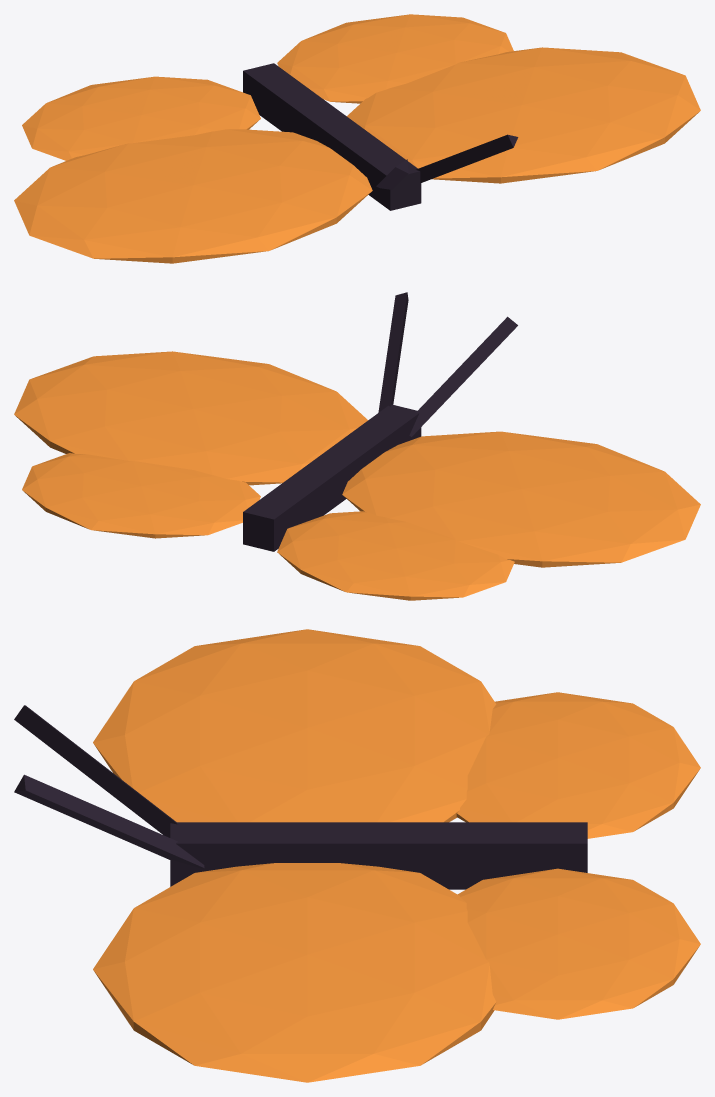
The model's file is butterfly_o.glb.
3 renders of one model, top to bottom at view 1: azimuth 30°, elevation 25°; view 2: azimuth 150°, elevation 25°; view 3: azimuth 270°, elevation 25°, orthographic. The views are drawn at different scales.
Parts seen in each view (by area): view 1: butterfly_o.wingR, butterfly_o.wingL, butterfly_o; view 2: butterfly_o.wingR, butterfly_o.wingL, butterfly_o; view 3: butterfly_o.wingL, butterfly_o.wingR, butterfly_o.
Part boxes in pixels (left/top/right/bottom): butterfly_o.wingR: left=14, top=76, right=372, bottom=263; butterfly_o.wingL: left=277, top=14, right=700, bottom=183; butterfly_o: left=243, top=63, right=518, bottom=210; butterfly_o.wingR: left=277, top=431, right=700, bottom=600; butterfly_o.wingL: left=14, top=351, right=367, bottom=538; butterfly_o: left=243, top=292, right=517, bottom=551; butterfly_o.wingL: left=93, top=863, right=700, bottom=1082; butterfly_o.wingR: left=93, top=629, right=700, bottom=838; butterfly_o: left=14, top=705, right=587, bottom=889.
Size of the model in its own units: 0.18 by 0.0257 by 0.1152.
